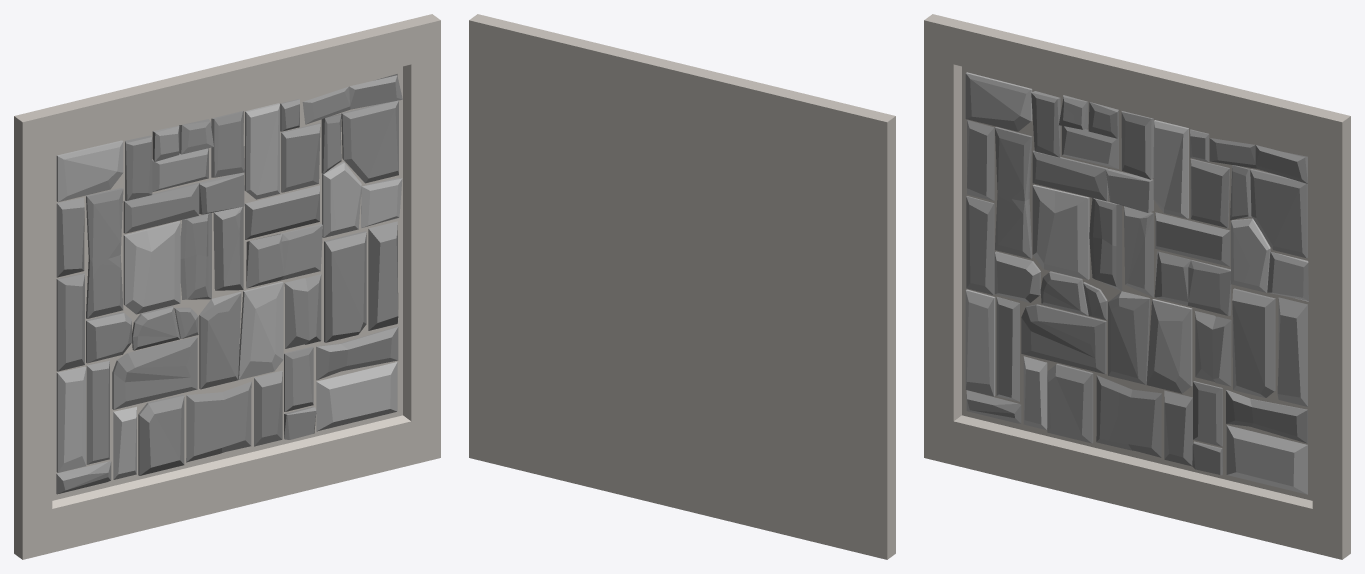
The model's file is _WALL_02_1.fbx.
The picture shows the model from 3 angles, left to right: view 1: azimuth 30°, elevation 25°; view 2: azimuth 150°, elevation 25°; view 3: azimuth 330°, elevation 25°; orthographic projection.
Parts seen in each view (by area): view 1: WALL_02_1; view 2: WALL_02_1; view 3: WALL_02_1.
Boxes of the visible parts, x1,y1,x2,y2 form: WALL_02_1: [14, 14, 440, 559]; WALL_02_1: [469, 14, 895, 559]; WALL_02_1: [924, 14, 1350, 559].
Bounding box in the file's own units: 300 × 300 × 12.
